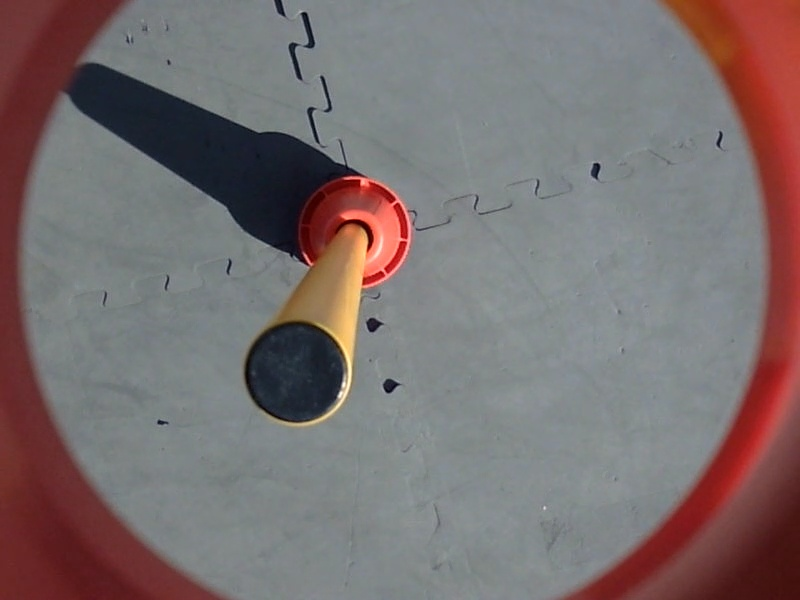tip: (241, 309, 356, 428)
